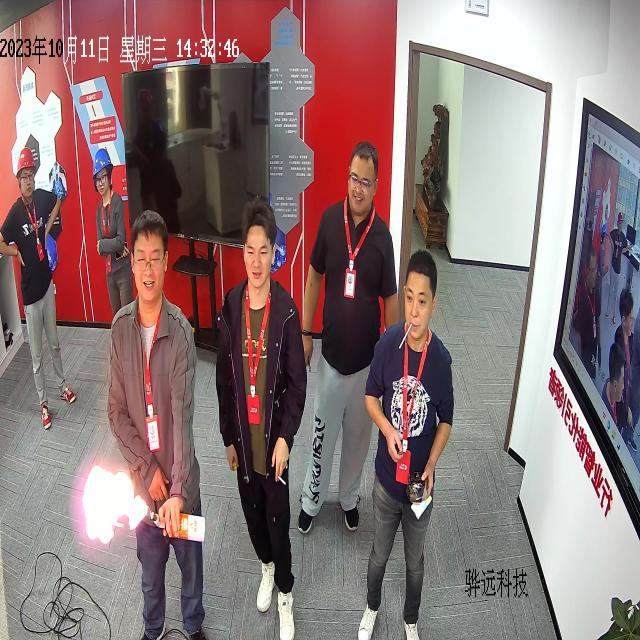Fire: (80, 464, 148, 542)
